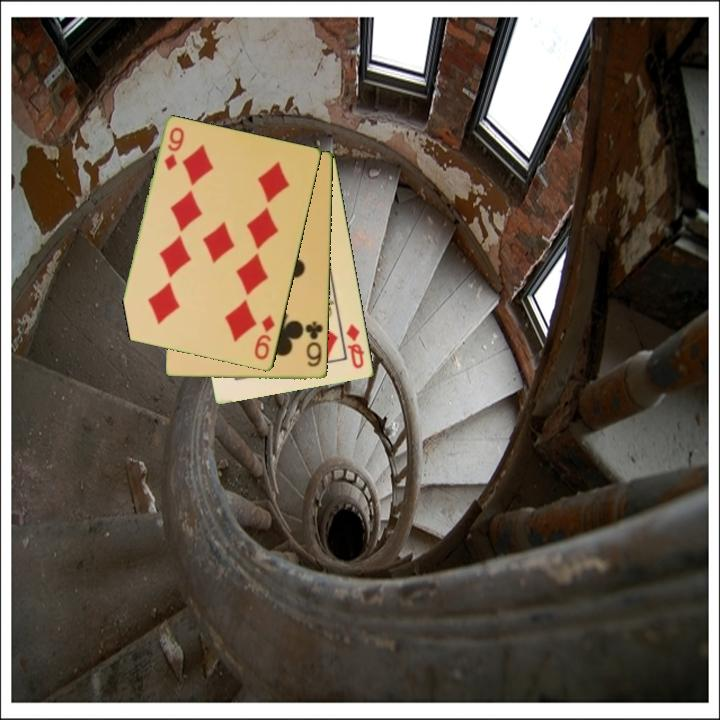6c: (302, 318, 326, 370)
9d: (251, 312, 278, 363), (161, 124, 187, 174)
Qd: (343, 320, 368, 372)
